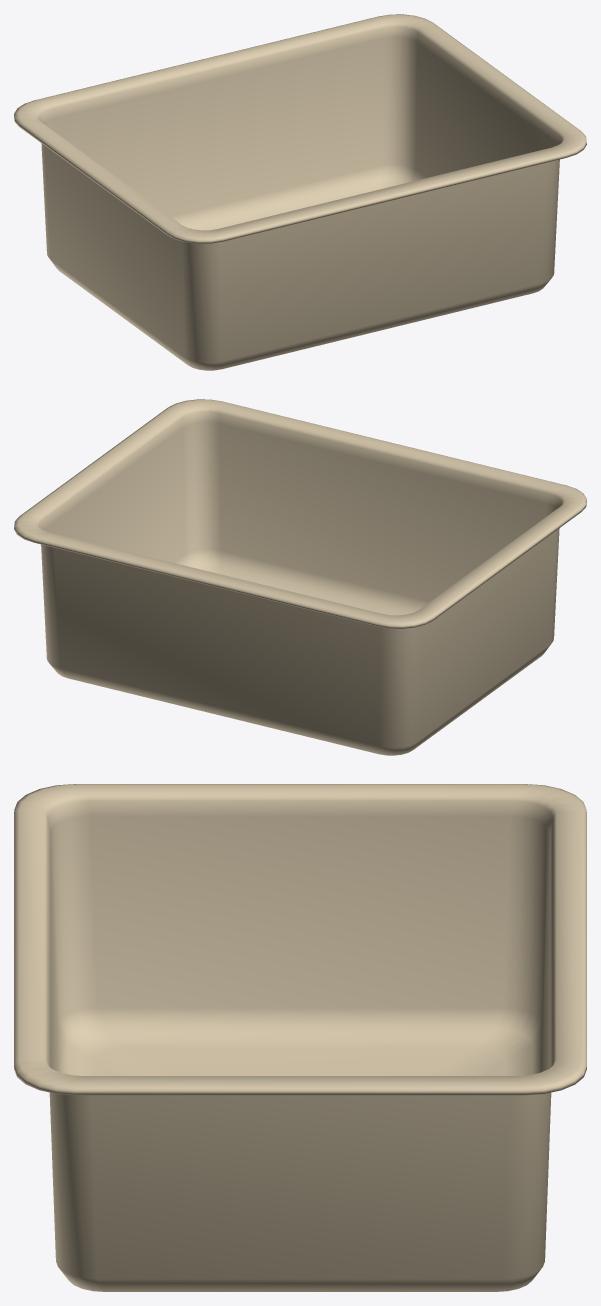
Rendered from a_sink_rect_2.glb.
The picture shows the model from 3 angles, top to bottom: view 1: azimuth 30°, elevation 25°; view 2: azimuth 150°, elevation 25°; view 3: azimuth 270°, elevation 25°; orthographic projection. The views are drawn at different scales.
Visible parts, largest first — view 1: o; view 2: o; view 3: o.
Boxes of the visible parts, x1,y1,x2,y2 form: o: [14, 14, 586, 370]; o: [14, 399, 586, 755]; o: [14, 784, 586, 1291].
Bounding box in the file's own units: 0.5224 × 0.1912 × 0.4124.
